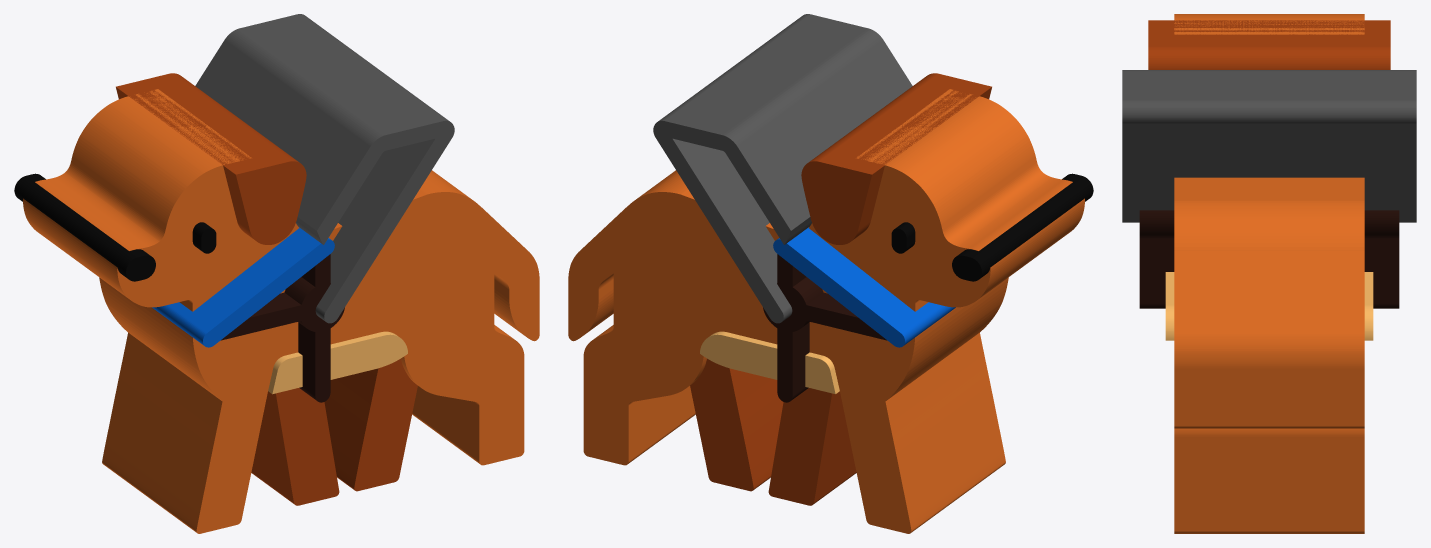
3 renders of one model, left to right at view 1: azimuth 30°, elevation 25°; view 2: azimuth 150°, elevation 25°; view 3: azimuth 270°, elevation 25°, orthographic.
Visible parts, largest first — view 1: U+1F9AE_layer01_obj00, U+1F9AE_layer07_obj00, U+1F9AE_layer00_obj00, U+1F9AE_layer04_obj00, U+1F9AE_layer06_obj00, U+1F9AE_layer05_obj00, U+1F9AE_layer03_obj00, U+1F9AE_layer02_obj00; view 2: U+1F9AE_layer01_obj00, U+1F9AE_layer07_obj00, U+1F9AE_layer00_obj00, U+1F9AE_layer04_obj00, U+1F9AE_layer06_obj00, U+1F9AE_layer05_obj00, U+1F9AE_layer03_obj00, U+1F9AE_layer02_obj00; view 3: U+1F9AE_layer01_obj00, U+1F9AE_layer07_obj00, U+1F9AE_layer04_obj00, U+1F9AE_layer05_obj00, U+1F9AE_layer02_obj00.
Boxes of the visible parts, bbox=[...] form: U+1F9AE_layer01_obj00: bbox=[23, 89, 539, 533]; U+1F9AE_layer07_obj00: bbox=[195, 14, 454, 323]; U+1F9AE_layer00_obj00: bbox=[251, 358, 417, 505]; U+1F9AE_layer04_obj00: bbox=[116, 73, 306, 244]; U+1F9AE_layer06_obj00: bbox=[152, 227, 334, 347]; U+1F9AE_layer05_obj00: bbox=[221, 254, 344, 402]; U+1F9AE_layer03_obj00: bbox=[14, 173, 216, 281]; U+1F9AE_layer02_obj00: bbox=[268, 331, 407, 394]; U+1F9AE_layer01_obj00: bbox=[568, 89, 1084, 533]; U+1F9AE_layer07_obj00: bbox=[653, 14, 912, 323]; U+1F9AE_layer00_obj00: bbox=[690, 358, 856, 505]; U+1F9AE_layer04_obj00: bbox=[801, 73, 991, 244]; U+1F9AE_layer06_obj00: bbox=[773, 227, 955, 347]; U+1F9AE_layer05_obj00: bbox=[763, 254, 886, 402]; U+1F9AE_layer03_obj00: bbox=[891, 173, 1093, 281]; U+1F9AE_layer02_obj00: bbox=[700, 331, 839, 394]; U+1F9AE_layer01_obj00: bbox=[1174, 14, 1364, 533]; U+1F9AE_layer07_obj00: bbox=[1122, 70, 1416, 222]; U+1F9AE_layer04_obj00: bbox=[1148, 20, 1390, 69]; U+1F9AE_layer05_obj00: bbox=[1139, 210, 1399, 308]; U+1F9AE_layer02_obj00: bbox=[1165, 272, 1373, 340].
Size of the model in its own units: 0.5678 by 0.4876 by 0.34.
